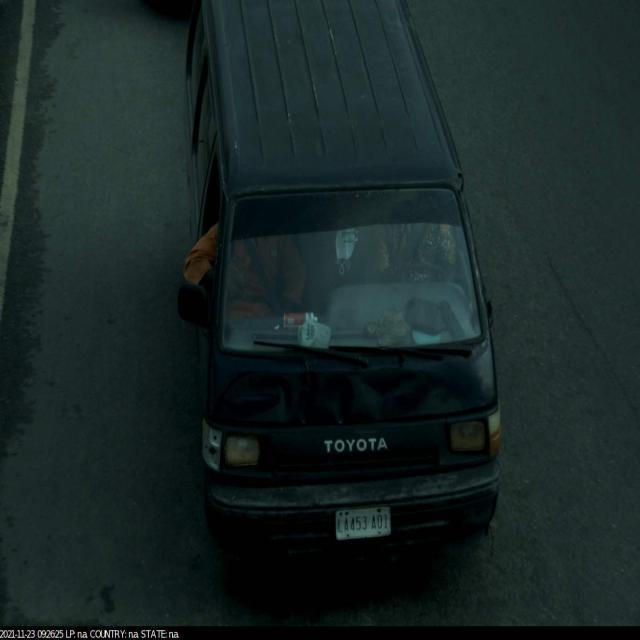windshield: (180, 174, 494, 366)
